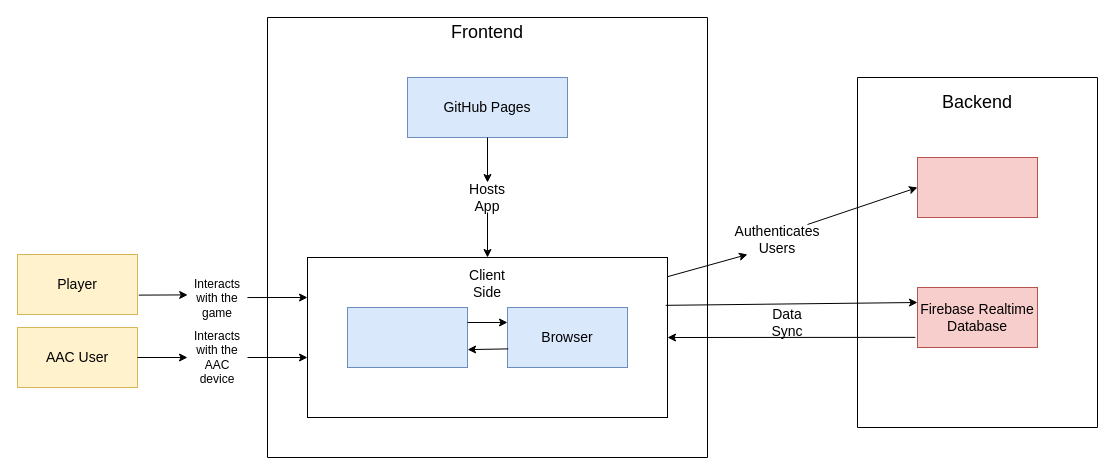
Image size: 1115x475. Some labels were removed from this diagram. The shapes that lost their labels are listed below. From the top down, each one's centre as x and y in pixels, then its label:
At (x=977, y=187): "Firebase Authentication".
At (x=407, y=337): "React".
